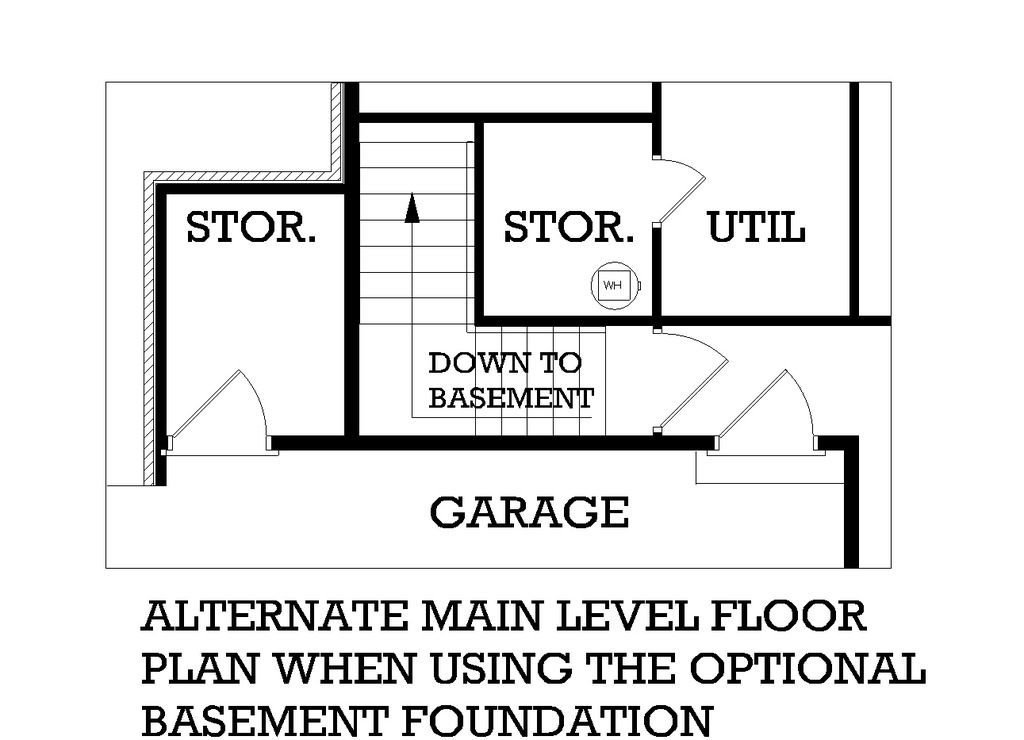door: (170, 363, 290, 465), (713, 354, 827, 456), (645, 323, 728, 435), (644, 150, 712, 221)
stairs: (350, 117, 629, 439)
